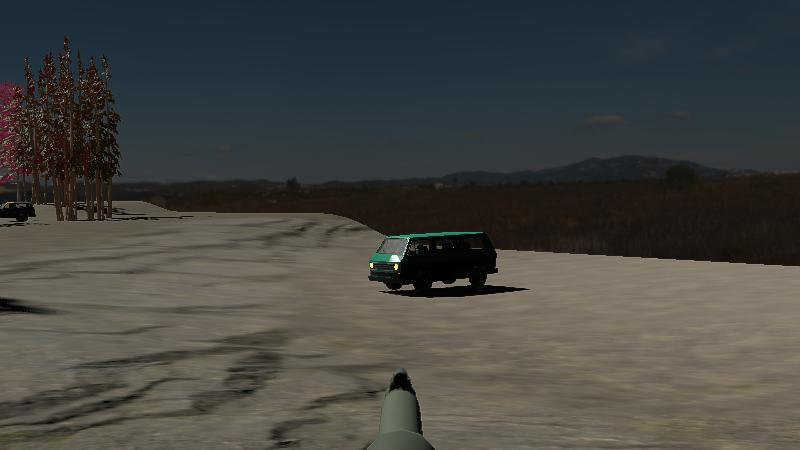car: (367, 230, 500, 296), (0, 199, 38, 224)
